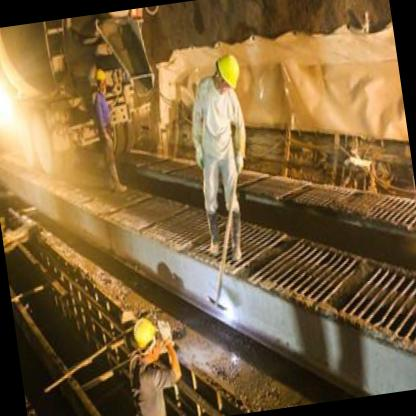helmet: (210, 46, 246, 102), (128, 314, 164, 368), (94, 63, 110, 94)
